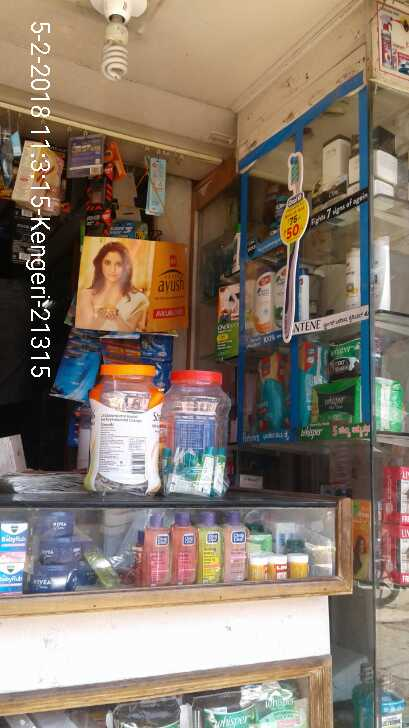beauty: (362, 230, 397, 319), (336, 240, 354, 315), (254, 263, 271, 331)
pharmacy: (309, 378, 400, 434), (249, 342, 286, 434), (316, 337, 386, 377)
